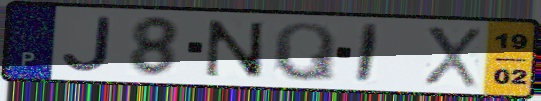8: (127, 14, 183, 79)
I: (352, 22, 384, 86)
J: (58, 15, 116, 74)
N: (204, 18, 267, 80)
Q: (270, 20, 339, 84)
X: (420, 24, 483, 90)
